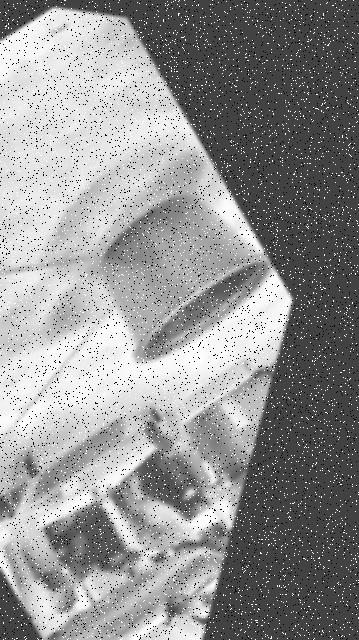pot: (99, 195, 273, 363)
